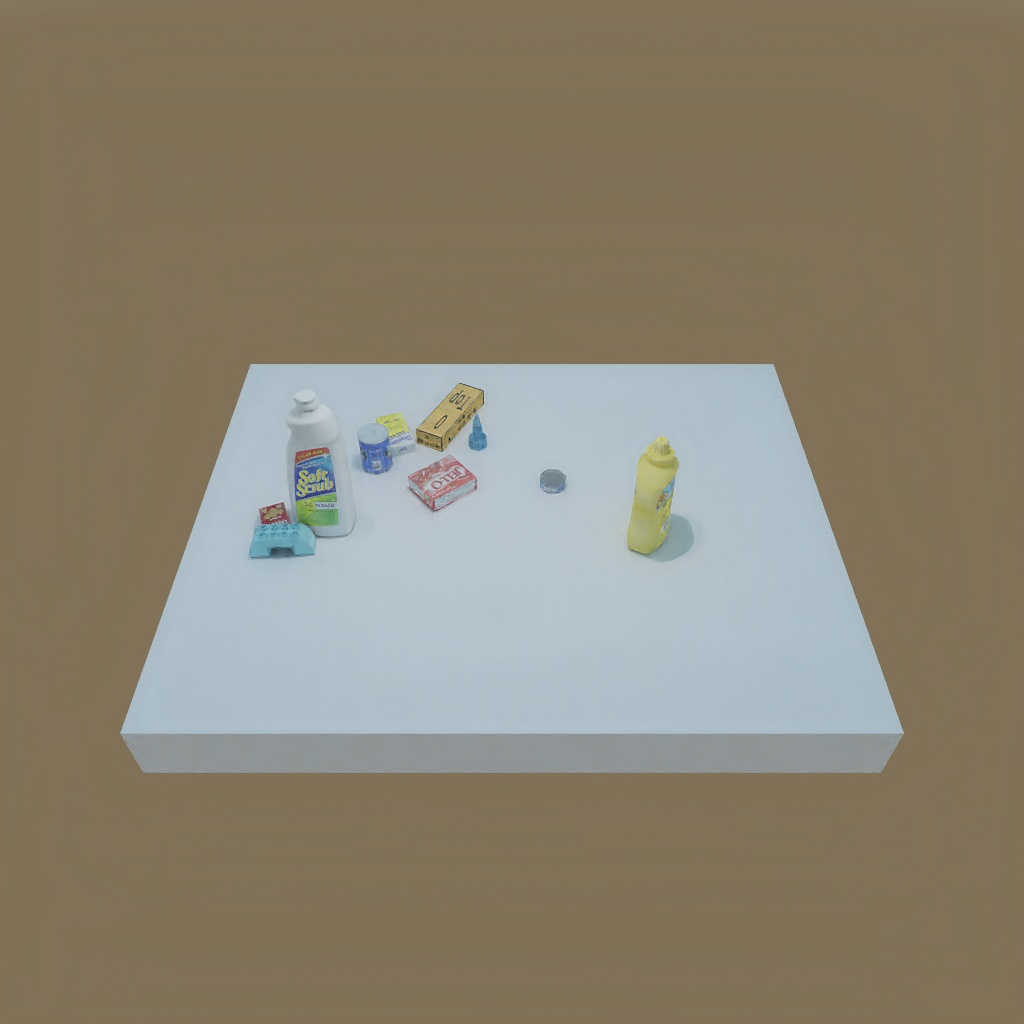gelatin_box: (406, 460, 476, 506)
jenga: (414, 377, 486, 454)
master_chef_can: (359, 424, 399, 477)
mustard_bottle: (633, 436, 676, 559)
